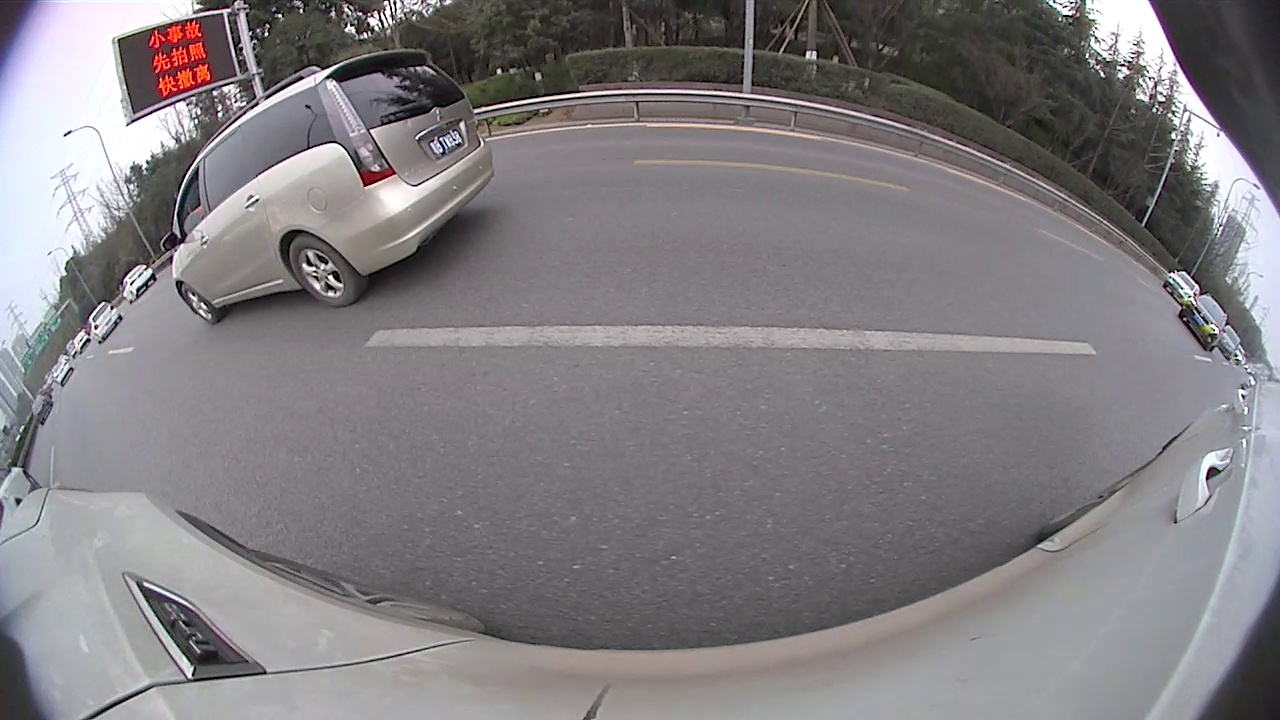car: (158, 47, 497, 325), (1177, 290, 1230, 353), (1162, 268, 1202, 308), (86, 301, 123, 344), (120, 262, 158, 303), (1214, 323, 1244, 361), (50, 358, 74, 388)
front: (181, 283, 218, 322)
rear: (289, 239, 358, 305)
